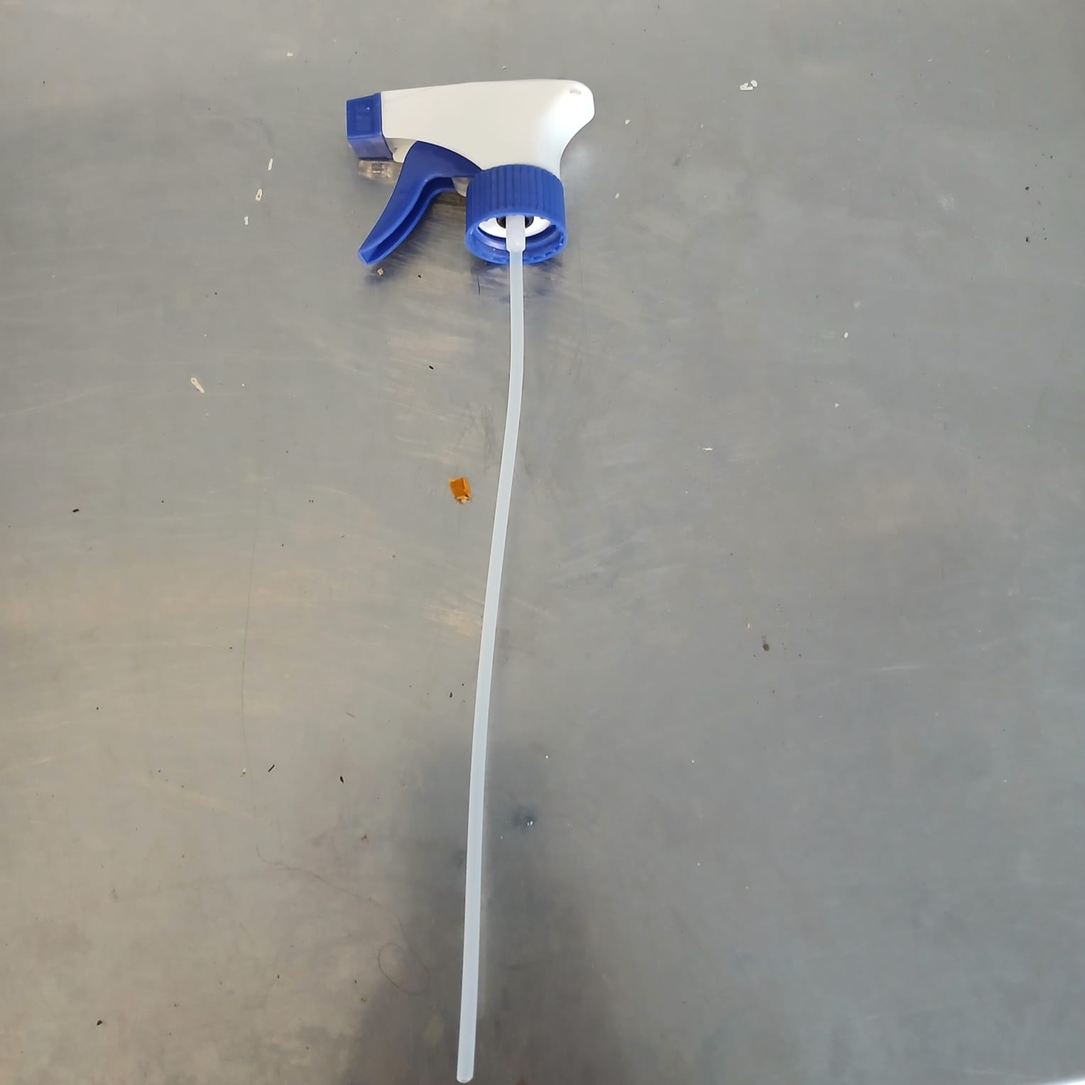Plastico: (348, 76, 593, 1079)
